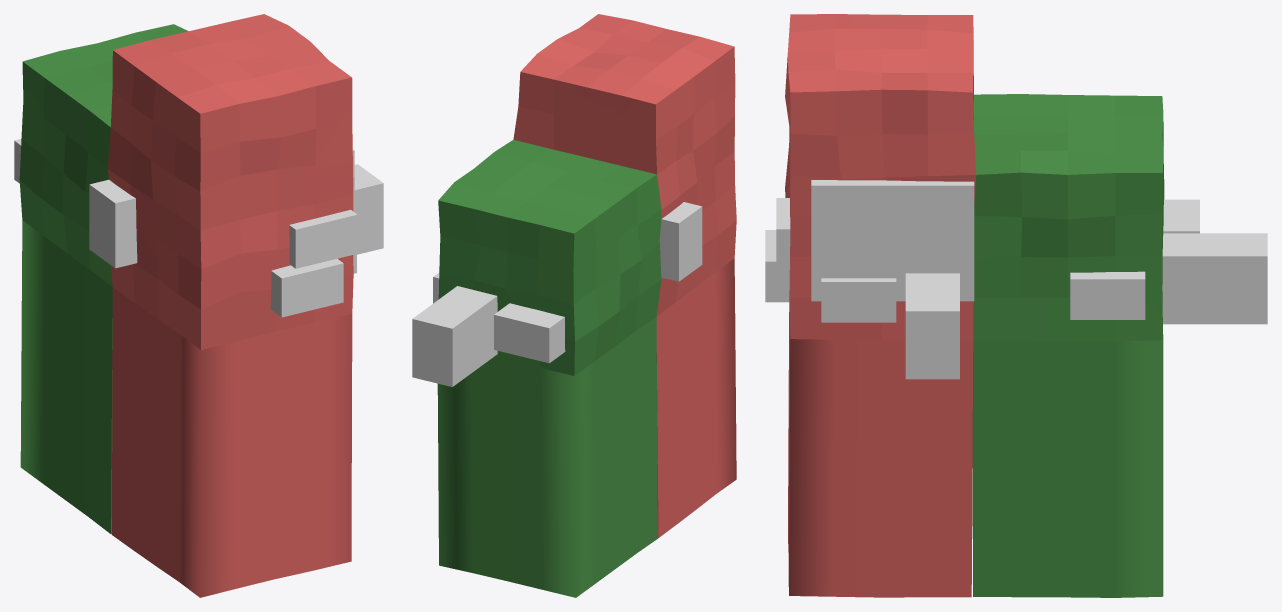
Rendered from BakeryandFlowerShop.fbx.
The picture shows the model from 3 angles, left to right: view 1: azimuth 30°, elevation 25°; view 2: azimuth 150°, elevation 25°; view 3: azimuth 270°, elevation 25°; orthographic projection. The views are drawn at different scales.
Visible parts, largest first — view 1: House, House.001, Cube.002, Cube.013, Cube.004, Cube.011; view 2: House.001, House, Cube.017, Cube.015, Cube.002; view 3: House.001, House, Cube.001, Cube.017, Cube.011, Cube.016, Cube.012, Cube.013, Cube.015, Cube.004.
Boxes of the visible parts, x1,y1,x2,y2 form: House: [107, 14, 353, 597]; House.001: [19, 24, 188, 534]; Cube.002: [89, 179, 137, 268]; Cube.013: [270, 258, 343, 317]; Cube.004: [289, 209, 357, 268]; Cube.011: [354, 164, 383, 254]; House.001: [437, 139, 661, 597]; House: [513, 14, 736, 538]; Cube.017: [412, 286, 497, 386]; Cube.015: [494, 303, 565, 363]; Cube.002: [659, 202, 702, 281]; House.001: [972, 94, 1164, 597]; House: [785, 14, 976, 597]; Cube.001: [811, 180, 974, 301]; Cube.017: [1162, 233, 1267, 324]; Cube.011: [905, 273, 959, 379]; Cube.016: [1070, 271, 1145, 319]; Cube.012: [821, 278, 896, 322]; Cube.013: [765, 230, 789, 302]; Cube.015: [1163, 199, 1199, 233]; Cube.004: [776, 198, 790, 270].
Size of the model in its own units: 347 by 618 by 550.
